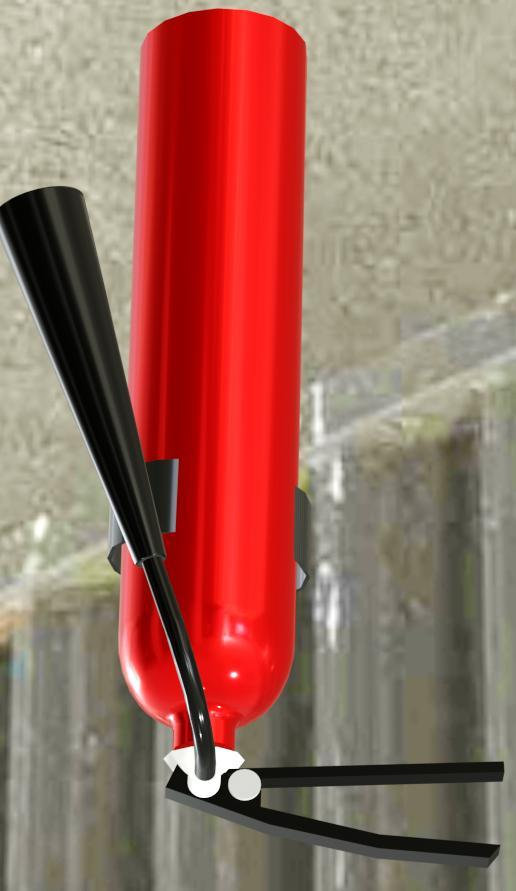Fire Extinguisher: (3, 12, 515, 868)
